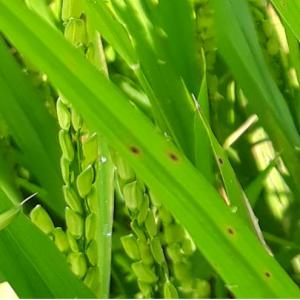Brown_Spot: (125, 140, 145, 159), (163, 148, 181, 164), (222, 224, 239, 238), (259, 267, 276, 281), (214, 153, 226, 167)
